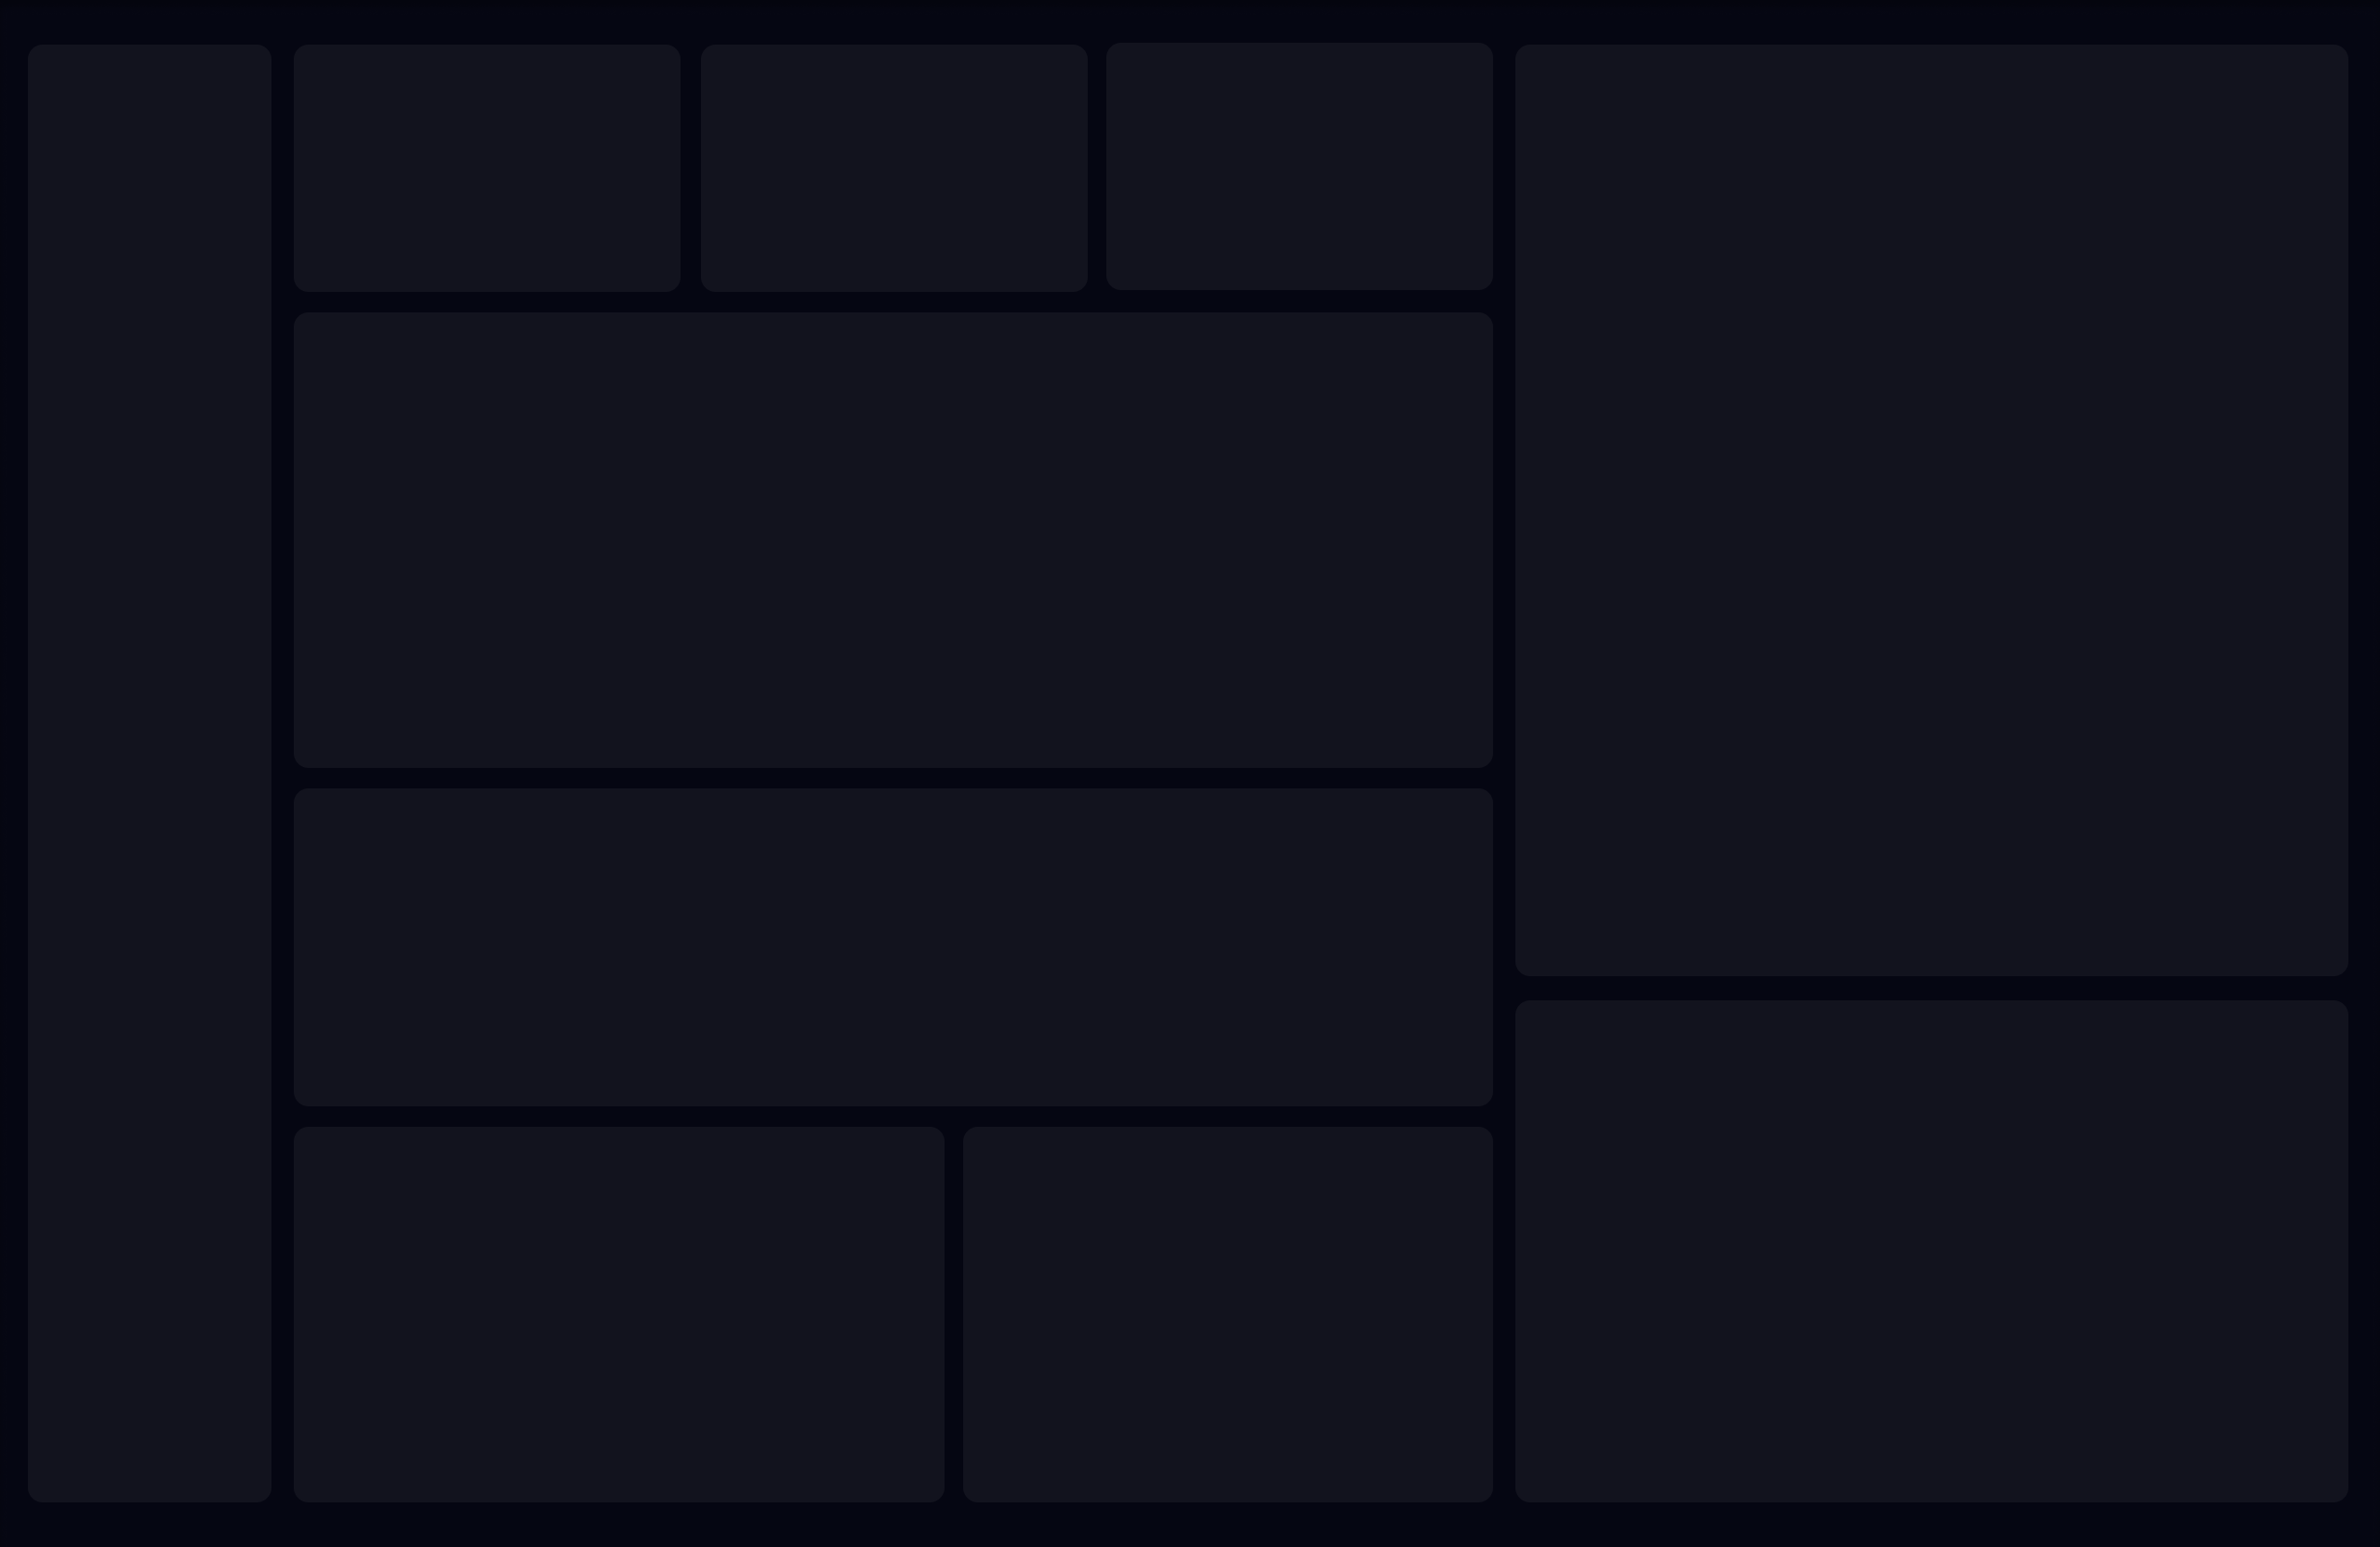

The page's visual inventory and layout, read from the dashboard file:
{"tool":"powerbi","page":{"name":"Análise Geral","canvas":[1280,720],"ordinal":0},"visuals":[{"type":"shape","box":[15.8,21.1,130,678.7],"z":0},{"type":"azureMap","fields":{"Size":["_Medidas.Total Vendido"],"Category":["dCliente.estado"]},"box":[820.4,63.1,437.3,386.7],"z":1000},{"type":"barChart","fields":{"Y":["_Medidas.Total Vendido"],"Category":["dProduto.nome_produto"]},"box":[172.5,547.7,326.9,144.9],"z":2000},{"type":"lineChart","title":"Total vendido por mês","fields":{"Y":["_Medidas.Total Vendido","_Medidas.Total Vendido AA2"],"Category":["dCalendário.Mês Abreviado"]},"box":[167.8,177.6,624.8,183],"z":3000},{"type":"tableEx","fields":{"Values":["dVendedor.imagem","dVendedor.nome_vendedor","_Medidas.Total Vendido","_Medidas.Qtd de vendas","_Medidas.Tiket Médio"]},"box":[823.6,487.3,430.2,205.5],"z":4000},{"type":"columnChart","title":"Quantidade de vendas por mês","fields":{"Y":["_Medidas.Qtd de vendas"],"Category":["dCalendário.Mês Abreviado"]},"box":[168.3,404.6,627.4,113.8],"z":5000},{"type":"columnChart","title":"(%) Vendido por faixa etária","fields":{"Category":["fVendas.Categoria_Idade"],"Y":["_Medidas.Total Vendido"]},"box":[525.1,569.9,272.2,122.9],"z":6000},{"type":"slicer","fields":{"Values":["dCalendário.Ano"]},"box":[20.6,203.2,114.6,67.1],"z":7000},{"type":"slicer","fields":{"Values":["dClientes.regiao"]},"box":[799.1,29.3,476.4,32],"z":8000},{"type":"textbox","box":[168.3,374.5,185.8,28.2],"z":9000},{"type":"textbox","box":[531.1,528.1,219.8,28.2],"z":10000},{"type":"textbox","box":[168.1,528.4,168.1,28],"z":11000},{"type":"textbox","box":[163.1,150.1,346.3,28],"z":12000},{"type":"slicer","fields":{"Values":["dProduto.nome_produto"]},"box":[14,432.9,131.7,45.7],"z":13000},{"type":"slicer","fields":{"Values":["dVendedor.nome_vendedor"]},"box":[14,363.5,131.7,44.8],"z":14000},{"type":"slicer","fields":{"Values":["dCalendário.Nome do Mês"]},"box":[14,293.3,131.7,46.5],"z":15000},{"type":"textbox","box":[610,29.1,194.5,107.3],"z":16000},{"type":"textbox","box":[173.6,30,198.2,107.3],"z":17000},{"type":"textbox","box":[392.7,30,197.3,107.3],"z":18000},{"type":"textbox","box":[16.7,79,129.1,49.2],"z":19000},{"type":"textbox","box":[44.8,153.7,53.6,30.7],"z":20000},{"type":"textbox","box":[27.2,179,65.2,30.2],"z":21000},{"type":"textbox","box":[24.7,274.3,97.9,27.3],"z":22000},{"type":"textbox","box":[23.8,343.2,98.8,31.8],"z":23000},{"type":"textbox","box":[23.8,415.5,98.8,28.2],"z":24000},{"type":"textbox","box":[48.3,480.3,87.8,30.7],"z":25000},{"type":"actionButton","box":[18.2,477.3,122.7,33.6],"z":26000},{"type":"card","fields":{"Values":["_Medidas.Ano Selecionado"]},"box":[480,33.6,50,27.3],"z":27000}]}

Visuals, with their boxes in screenshot pixels (x1, y1, x2, y2):
shape: (x1=22, y1=268, x2=261, y2=1513)
azureMap - _Medidas.Total Vendido x dCliente.estado: (x1=1498, y1=345, x2=2300, y2=1054)
barChart - _Medidas.Total Vendido x dProduto.nome_produto: (x1=311, y1=1234, x2=909, y2=1500)
"Total vendido por mês" lineChart: (x1=301, y1=555, x2=1448, y2=891)
tableEx - dVendedor.imagem x dVendedor.nome_vendedor: (x1=1504, y1=1123, x2=2293, y2=1500)
"Quantidade de vendas por mês" columnChart: (x1=302, y1=972, x2=1453, y2=1180)
"(%) Vendido por faixa etária" columnChart: (x1=957, y1=1275, x2=1456, y2=1500)
slicer - dCalendário.Ano: (x1=32, y1=602, x2=242, y2=725)
slicer - dClientes.regiao: (x1=1459, y1=283, x2=2333, y2=342)
textbox: (x1=302, y1=916, x2=643, y2=968)
textbox: (x1=968, y1=1197, x2=1370, y2=1249)
textbox: (x1=302, y1=1198, x2=610, y2=1249)
textbox: (x1=293, y1=505, x2=928, y2=556)
slicer - dProduto.nome_produto: (x1=20, y1=1024, x2=261, y2=1107)
slicer - dVendedor.nome_vendedor: (x1=20, y1=896, x2=261, y2=978)
slicer - dCalendário.Nome do Mês: (x1=20, y1=767, x2=261, y2=853)
textbox: (x1=1112, y1=283, x2=1469, y2=480)
textbox: (x1=312, y1=284, x2=676, y2=481)
textbox: (x1=714, y1=284, x2=1076, y2=481)
textbox: (x1=24, y1=374, x2=261, y2=465)
textbox: (x1=76, y1=511, x2=174, y2=567)
textbox: (x1=44, y1=558, x2=164, y2=613)
textbox: (x1=39, y1=733, x2=218, y2=783)
textbox: (x1=37, y1=859, x2=218, y2=917)
textbox: (x1=37, y1=991, x2=218, y2=1043)
textbox: (x1=83, y1=1110, x2=244, y2=1167)
actionButton: (x1=27, y1=1104, x2=252, y2=1166)
card - _Medidas.Ano Selecionado: (x1=874, y1=291, x2=966, y2=341)
